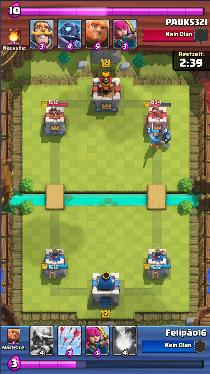ally_knight: (146, 130, 165, 149)
ally_mini_pekka: (163, 131, 172, 143)
